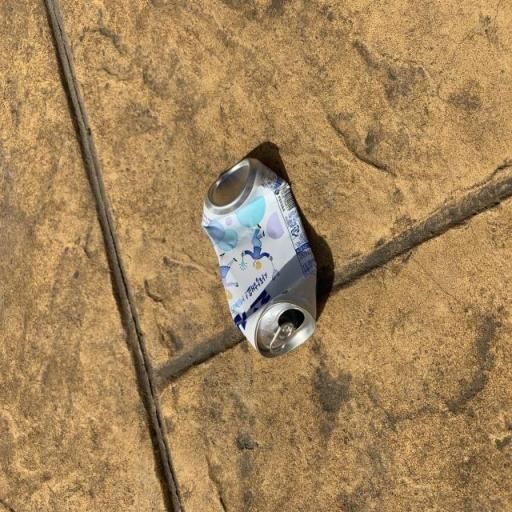metal: (189, 134, 327, 372)
